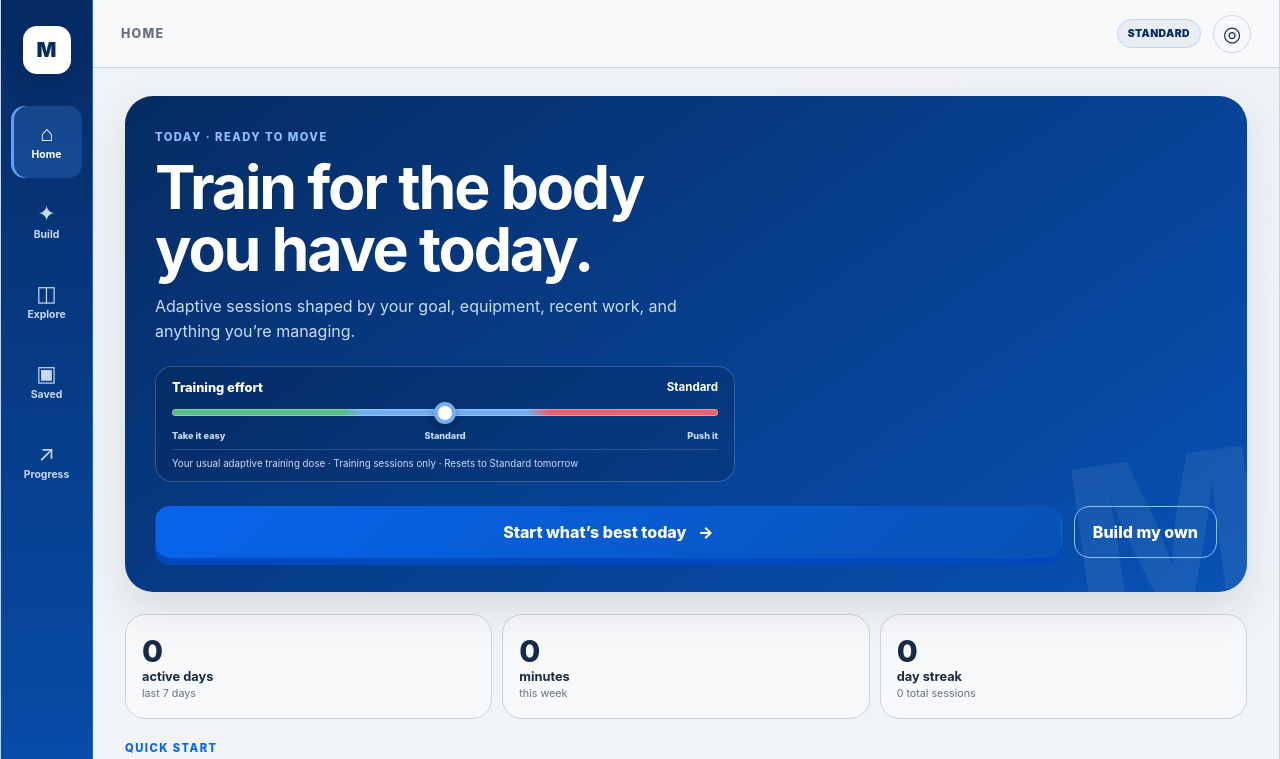
Scenario: persists Push It and snapshots it onto the next training plan
Step 1. Set the slider labelled "Training effort" to "2" → (710, 413), box [172, 401, 718, 425]
(page scrolled)
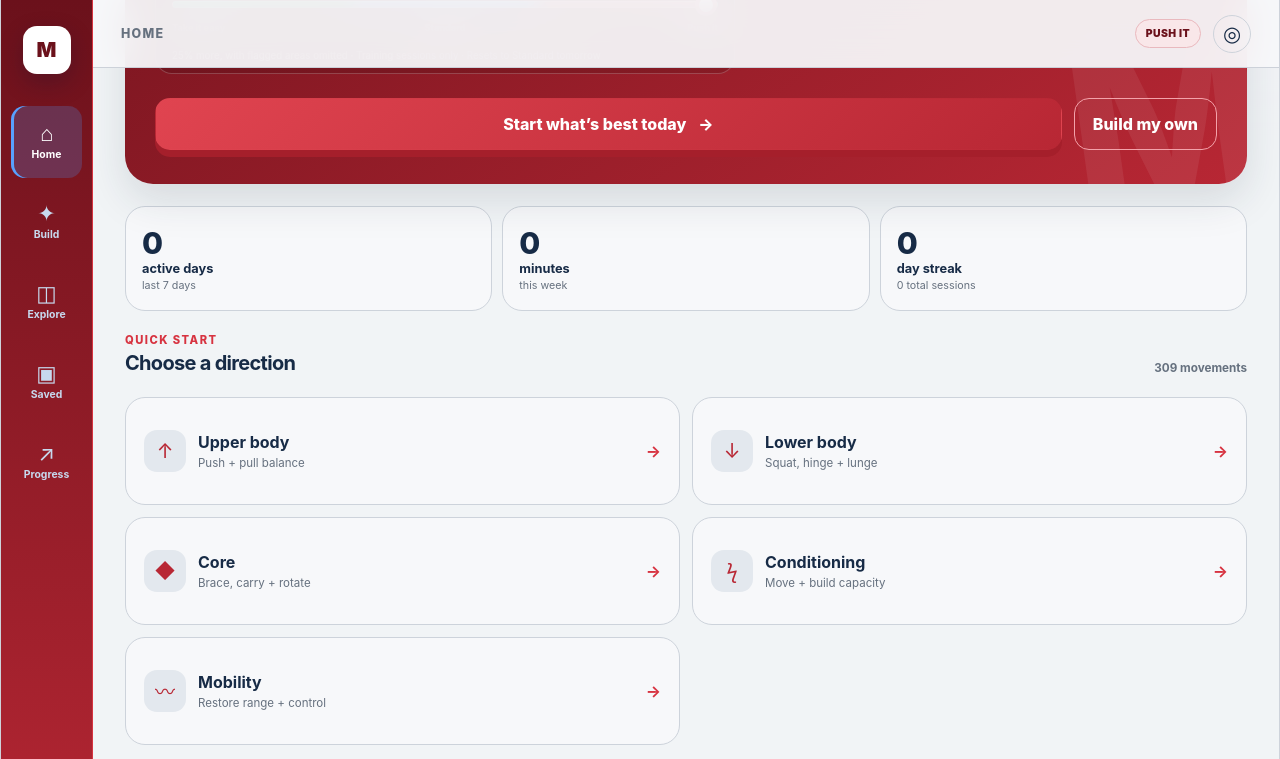
Step 2. Click the button "↑ Upper body Push + pull balance →" → (165, 451), box [125, 397, 680, 505]
(page scrolled)
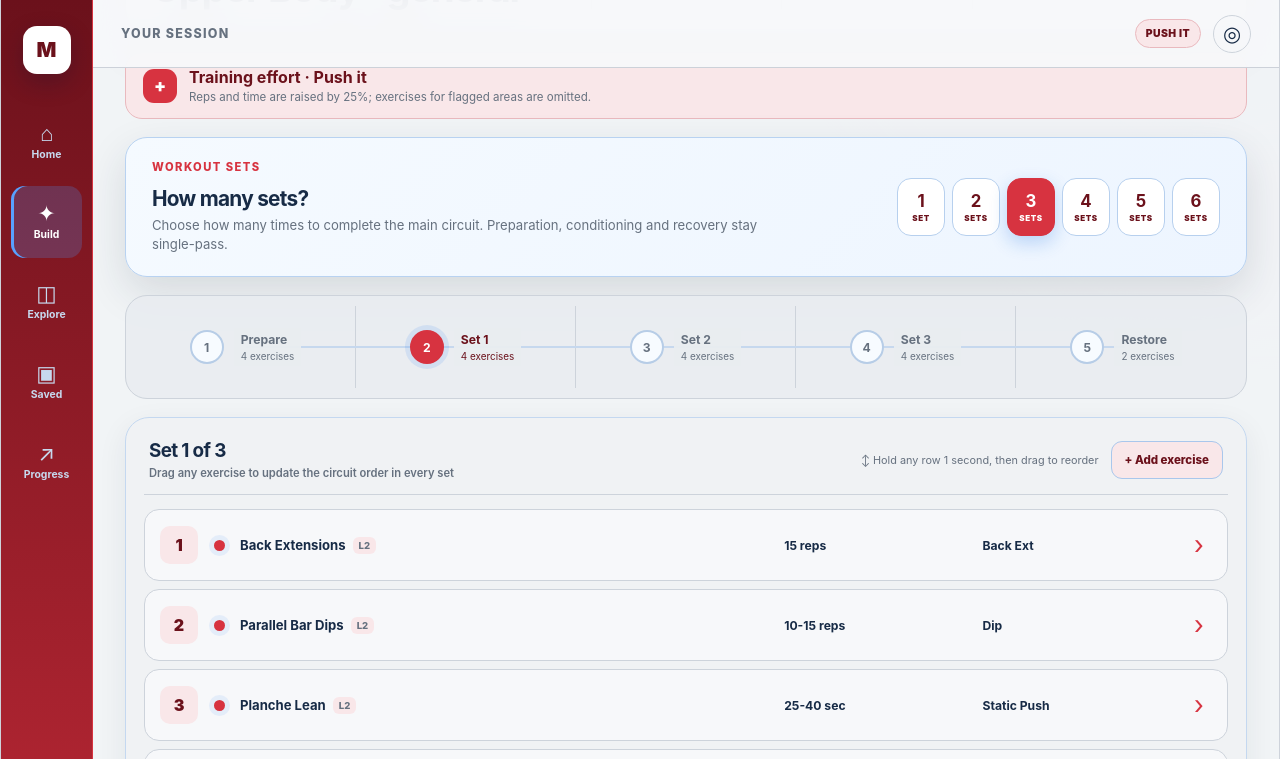
expect the text "Training effort · Push it" is shown: met, box [189, 67, 367, 87]
